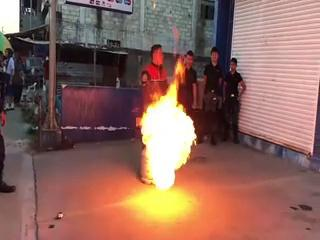Fire: (139, 78, 199, 190)
